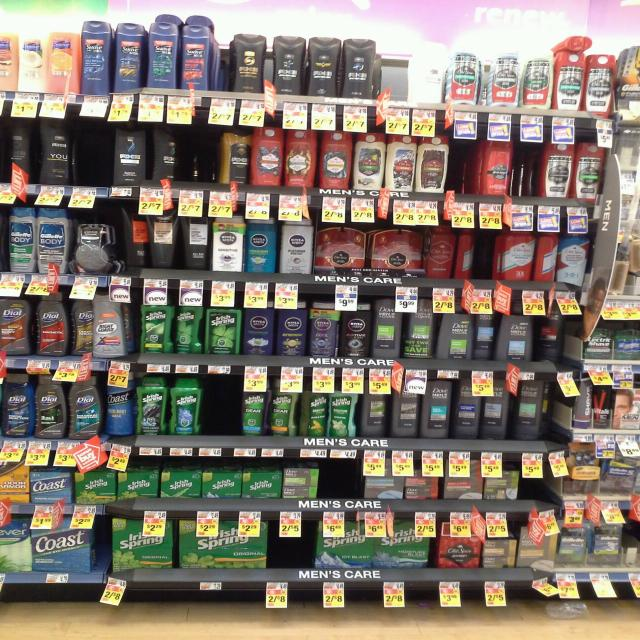void: (85, 122, 114, 184), (210, 378, 239, 434), (321, 462, 360, 496), (282, 525, 312, 567), (384, 43, 406, 99)
